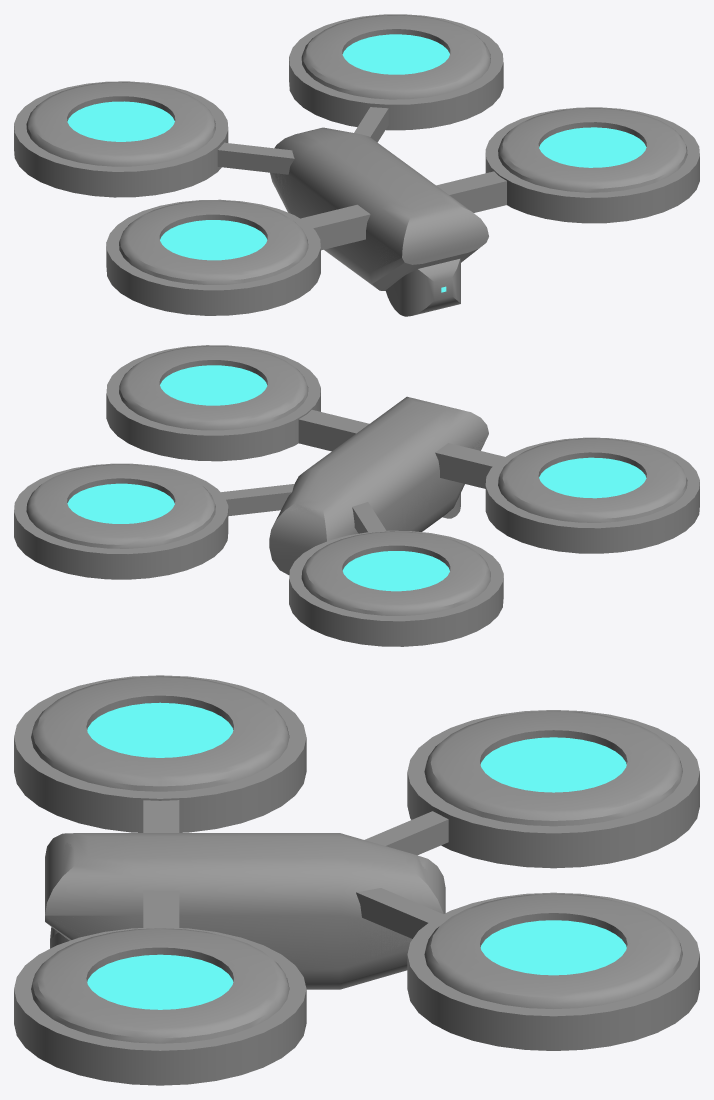
The model's file is Drone.glb.
3 views of the same model, one above another, from view 1: azimuth 30°, elevation 25°; view 2: azimuth 150°, elevation 25°; view 3: azimuth 270°, elevation 25° (orthographic). The views are drawn at different scales.
Parts seen in each view (by area): view 1: Cube; view 2: Cube; view 3: Cube.
Boxes of the visible parts, bbox=[...] form: Cube: bbox=[14, 14, 699, 316]; Cube: bbox=[14, 345, 699, 646]; Cube: bbox=[14, 675, 699, 1085].
Bounding box in the file's own units: 12.97 × 2.24 × 10.01.
